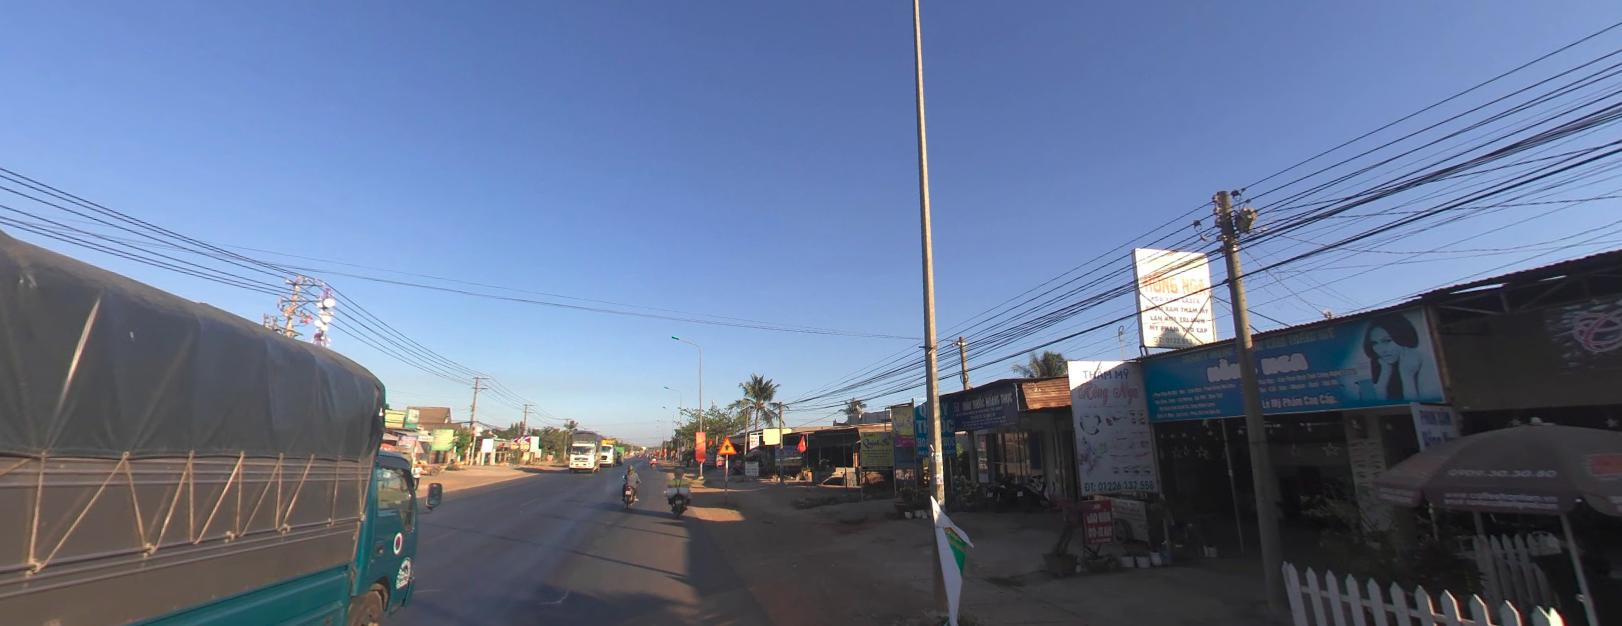Nguy hiem: (716, 434, 737, 454), (717, 434, 737, 454)
